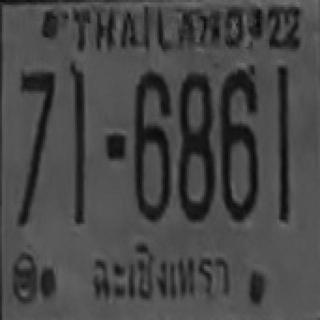N07: (19, 69, 54, 158)
N08: (178, 70, 213, 220)
P07: (81, 235, 236, 307)
